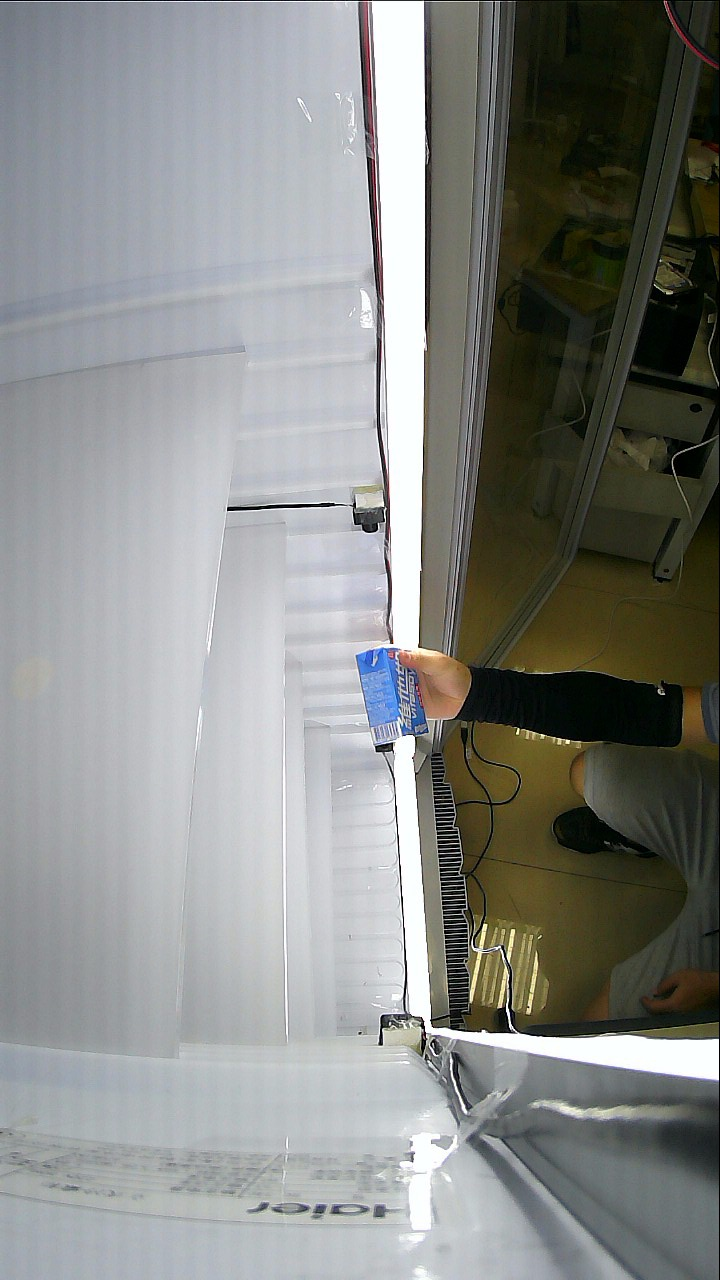VitaSoyOriginal: (361, 648, 516, 748)
